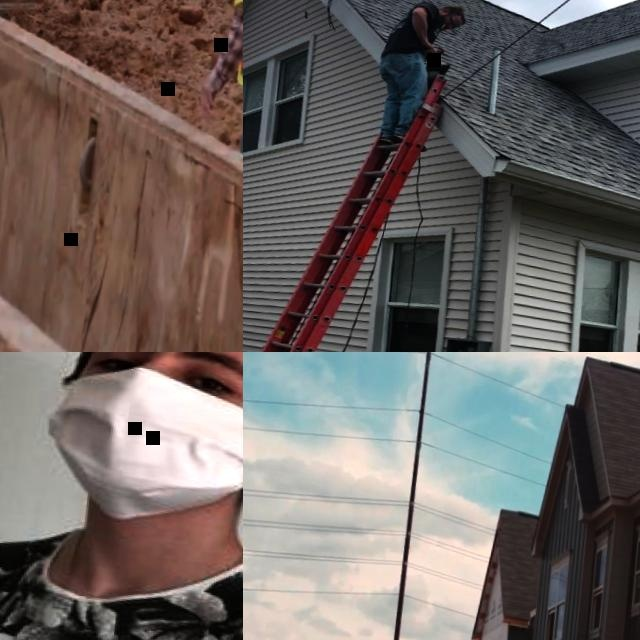Mask: (37, 357, 243, 537)
NO-Hardhat: (446, 5, 468, 23)
NO-Safety Vest: (0, 533, 243, 640), (380, 0, 441, 59)
Person: (0, 352, 243, 640), (366, 0, 469, 155)
